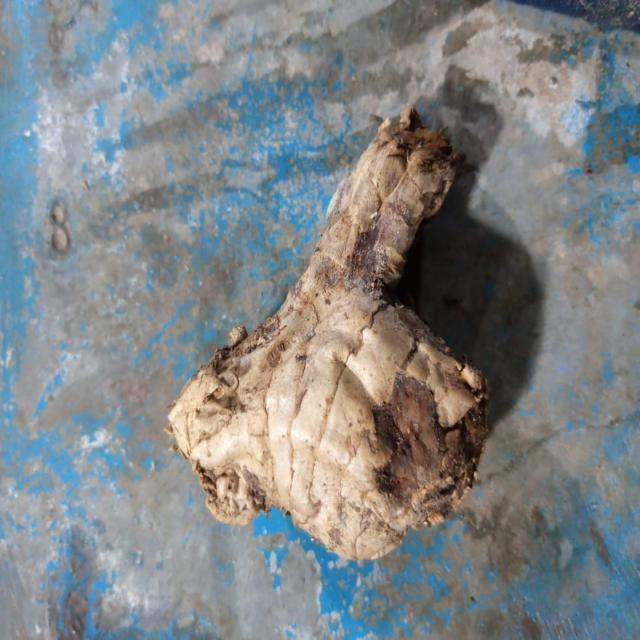ginger: (173, 313, 498, 553)
